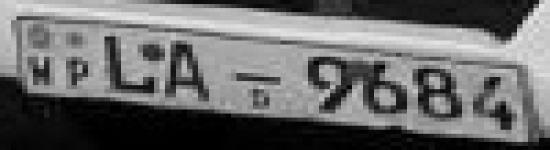-: (228, 68, 288, 91)
4: (467, 72, 520, 134)
6: (363, 57, 412, 120)
8: (412, 63, 466, 125)
9: (298, 51, 358, 118)
A: (160, 35, 212, 103)
L: (98, 34, 160, 98)
P: (62, 53, 94, 94)
W: (24, 52, 56, 88)
